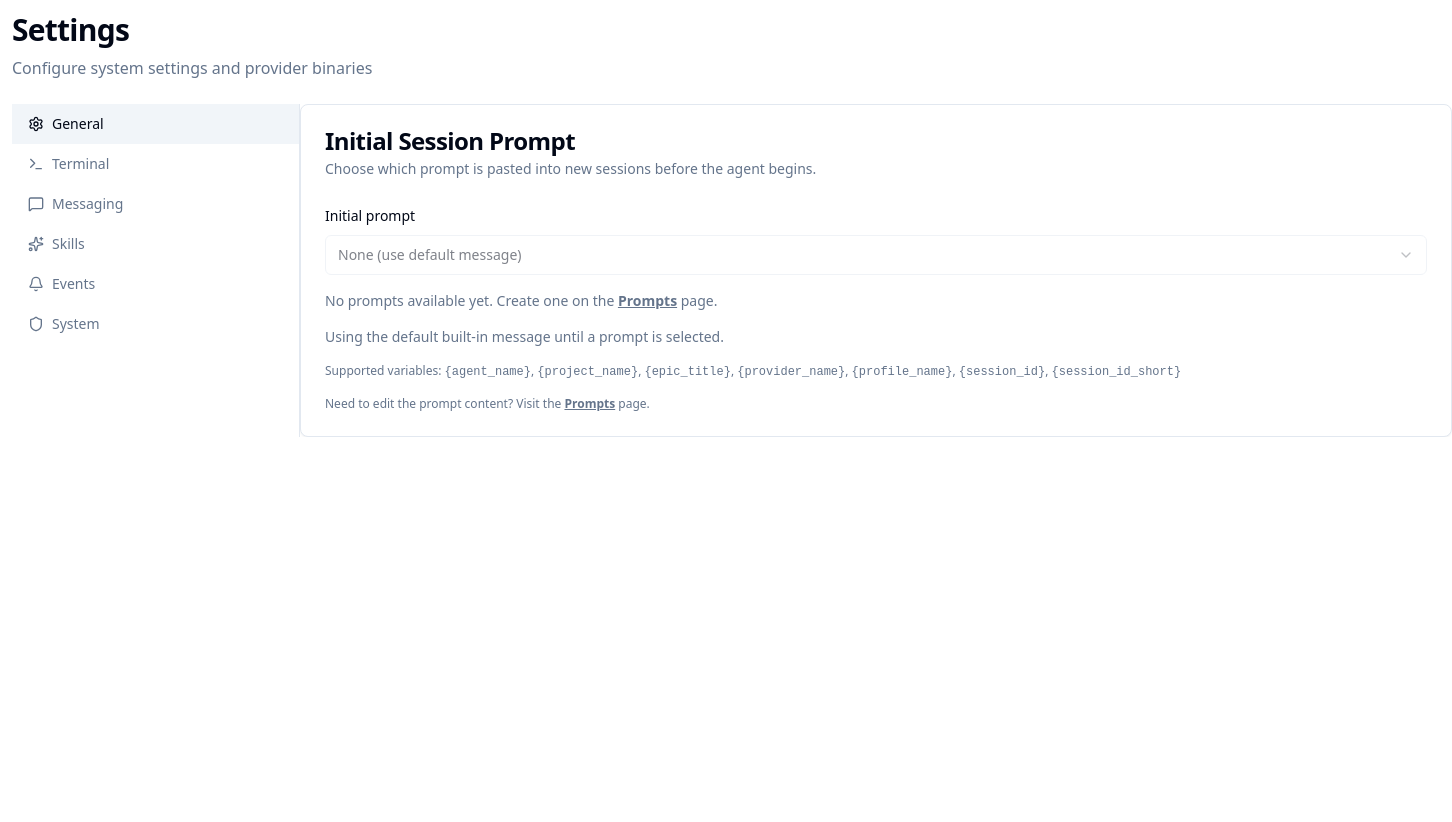
SettingsPage sub-navigation › switches sections when a nav item is clicked
Expected: the heading "Initial Session Prompt" is shown, [325,124,575,157]
# Click the Events nav tab (userEvent dispatches pointer+focus events that Radix expects)
What coordinates should you click on to do the following:
click the tab "Events"
I would click on:
 (74, 284)
Its box is [12,264,299,304].
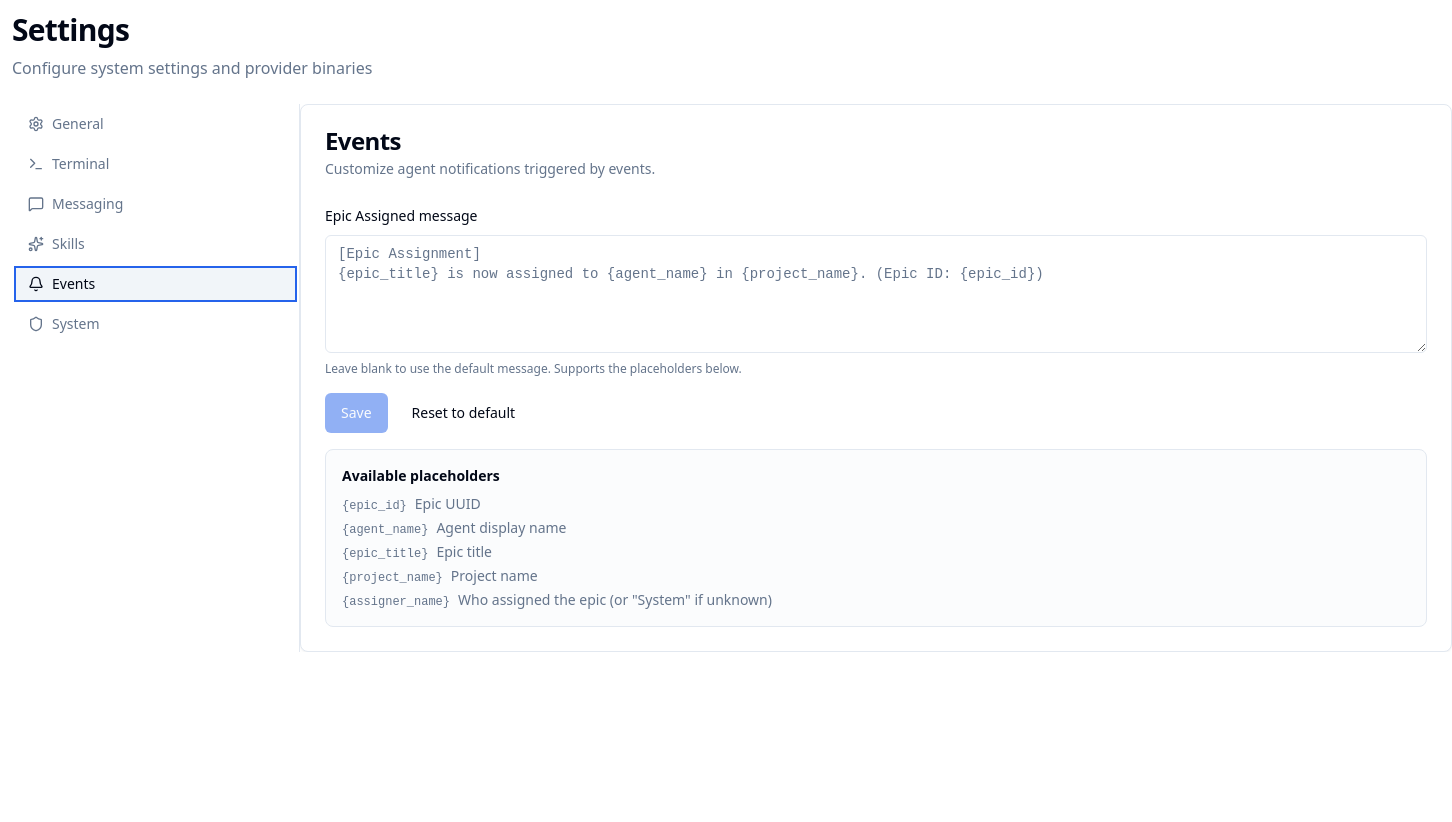
Expected: the text "Epic Assigned message" is shown, [325,206,478,225]
